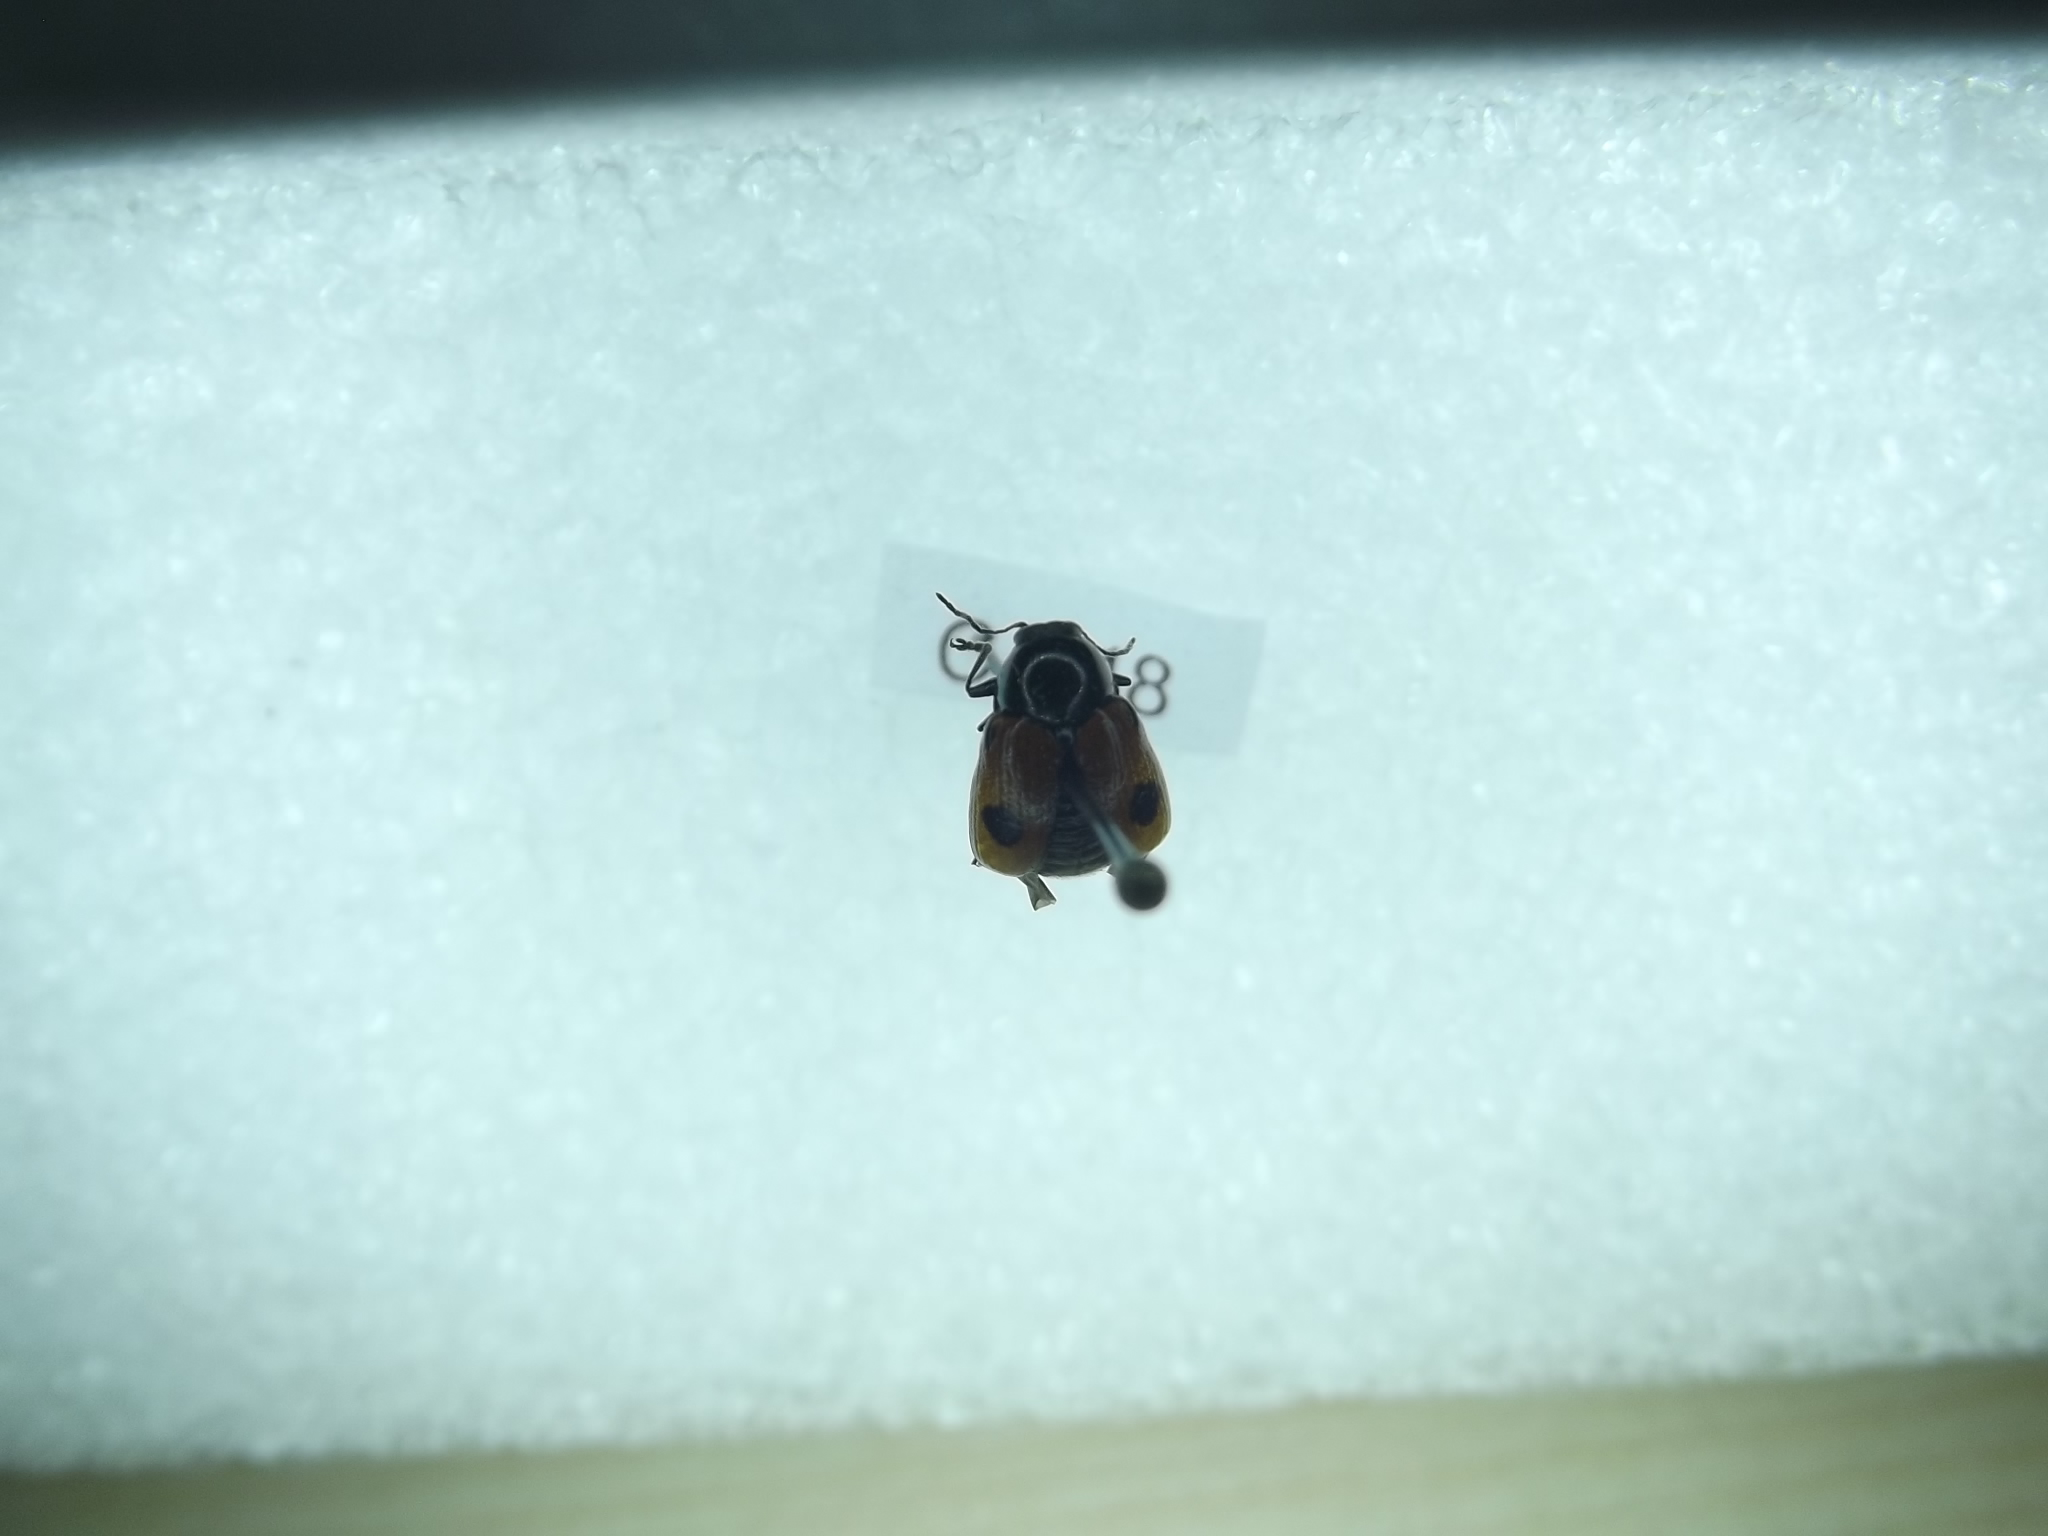Cryptocephalus_bipunctatus: (926, 574, 1185, 912)
